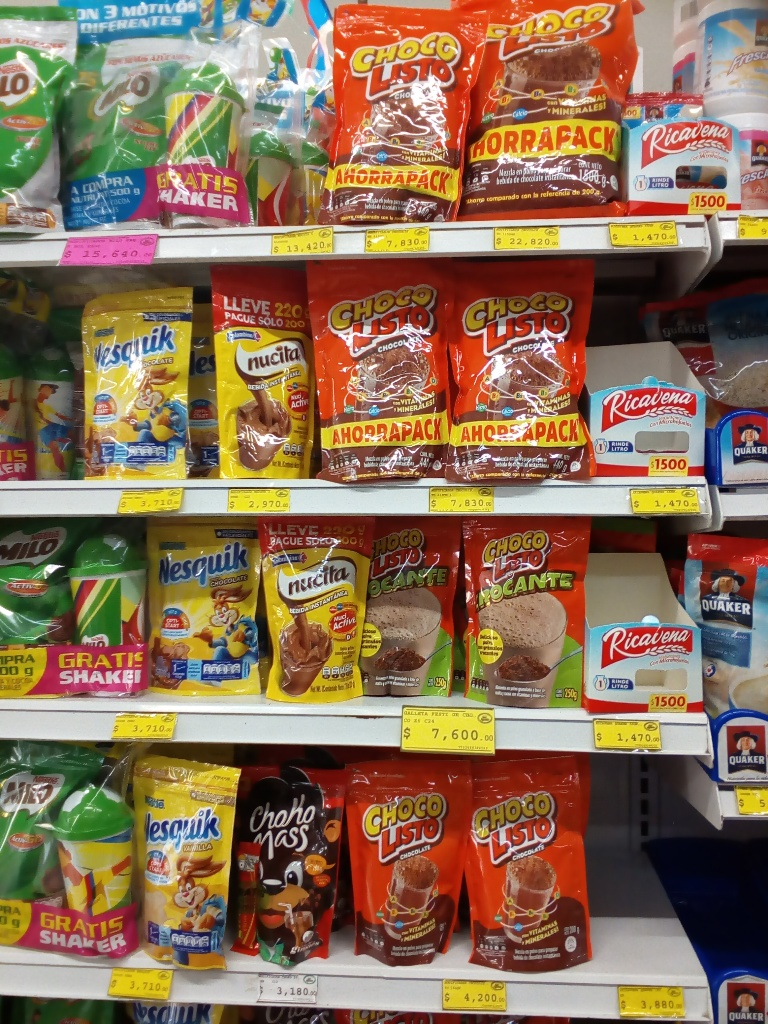COL0170103DYP1,500: (468, 0, 639, 216)
COL0170103DYP44000: (313, 265, 449, 478)
COL0170203DYP50000: (3, 516, 74, 702)
COL0170205DYP50000: (0, 10, 71, 236)
COL0170306DYP20000: (151, 517, 265, 704)
